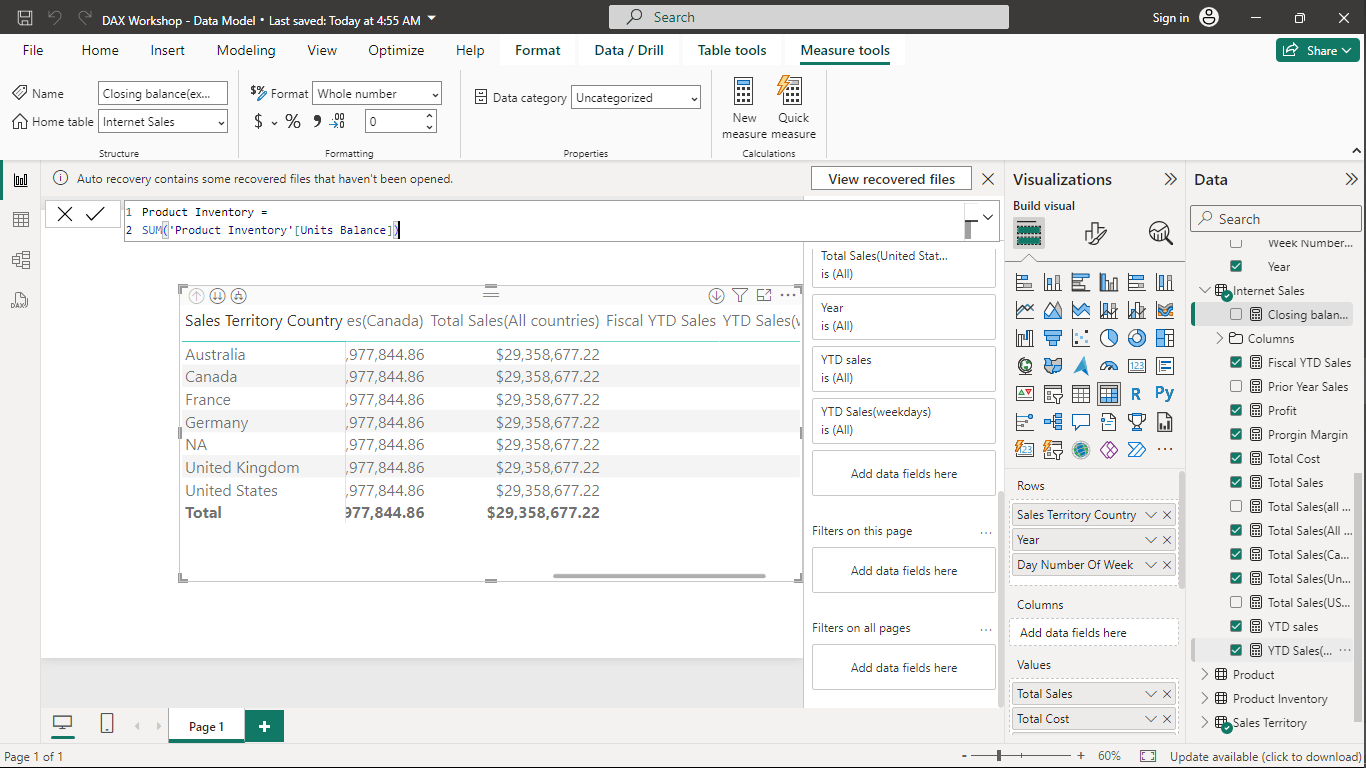

Layout of this report page (visuals, bound fields, positions):
{"tool":"powerbi","page":{"name":"Page 1","canvas":[1280,720],"ordinal":0},"visuals":[{"type":"pivotTable","fields":{"Values":["Internet Sales.Total Sales","Internet Sales.Total Cost","Internet Sales.Profit","Internet Sales.Total Sales(United States)","Internet Sales.Prorgin Margin","Internet Sales.YTD sales","Internet Sales.Total Sales(Canada)","Internet Sales.Total Sales(All countries)","Internet Sales.Fiscal YTD Sales","Internet Sales.YTD Sales(weekdays)"],"Rows":["Sales Territory.Sales Territory Country","Date.Year","Date.Day Number Of Week"]},"box":[231.8,126,1048.2,465.3],"z":1}]}

Visuals, with their boxes on the page's 1280x720 design canvas (x1, y1, x2, y2). These are canvas units, not pixel positions in the 1366x768 screenshot, which may show the page scaled, cropped or inside an application window:
pivotTable - Internet Sales.Total Sales x Internet Sales.Total Cost: locate(232, 126, 1280, 591)
